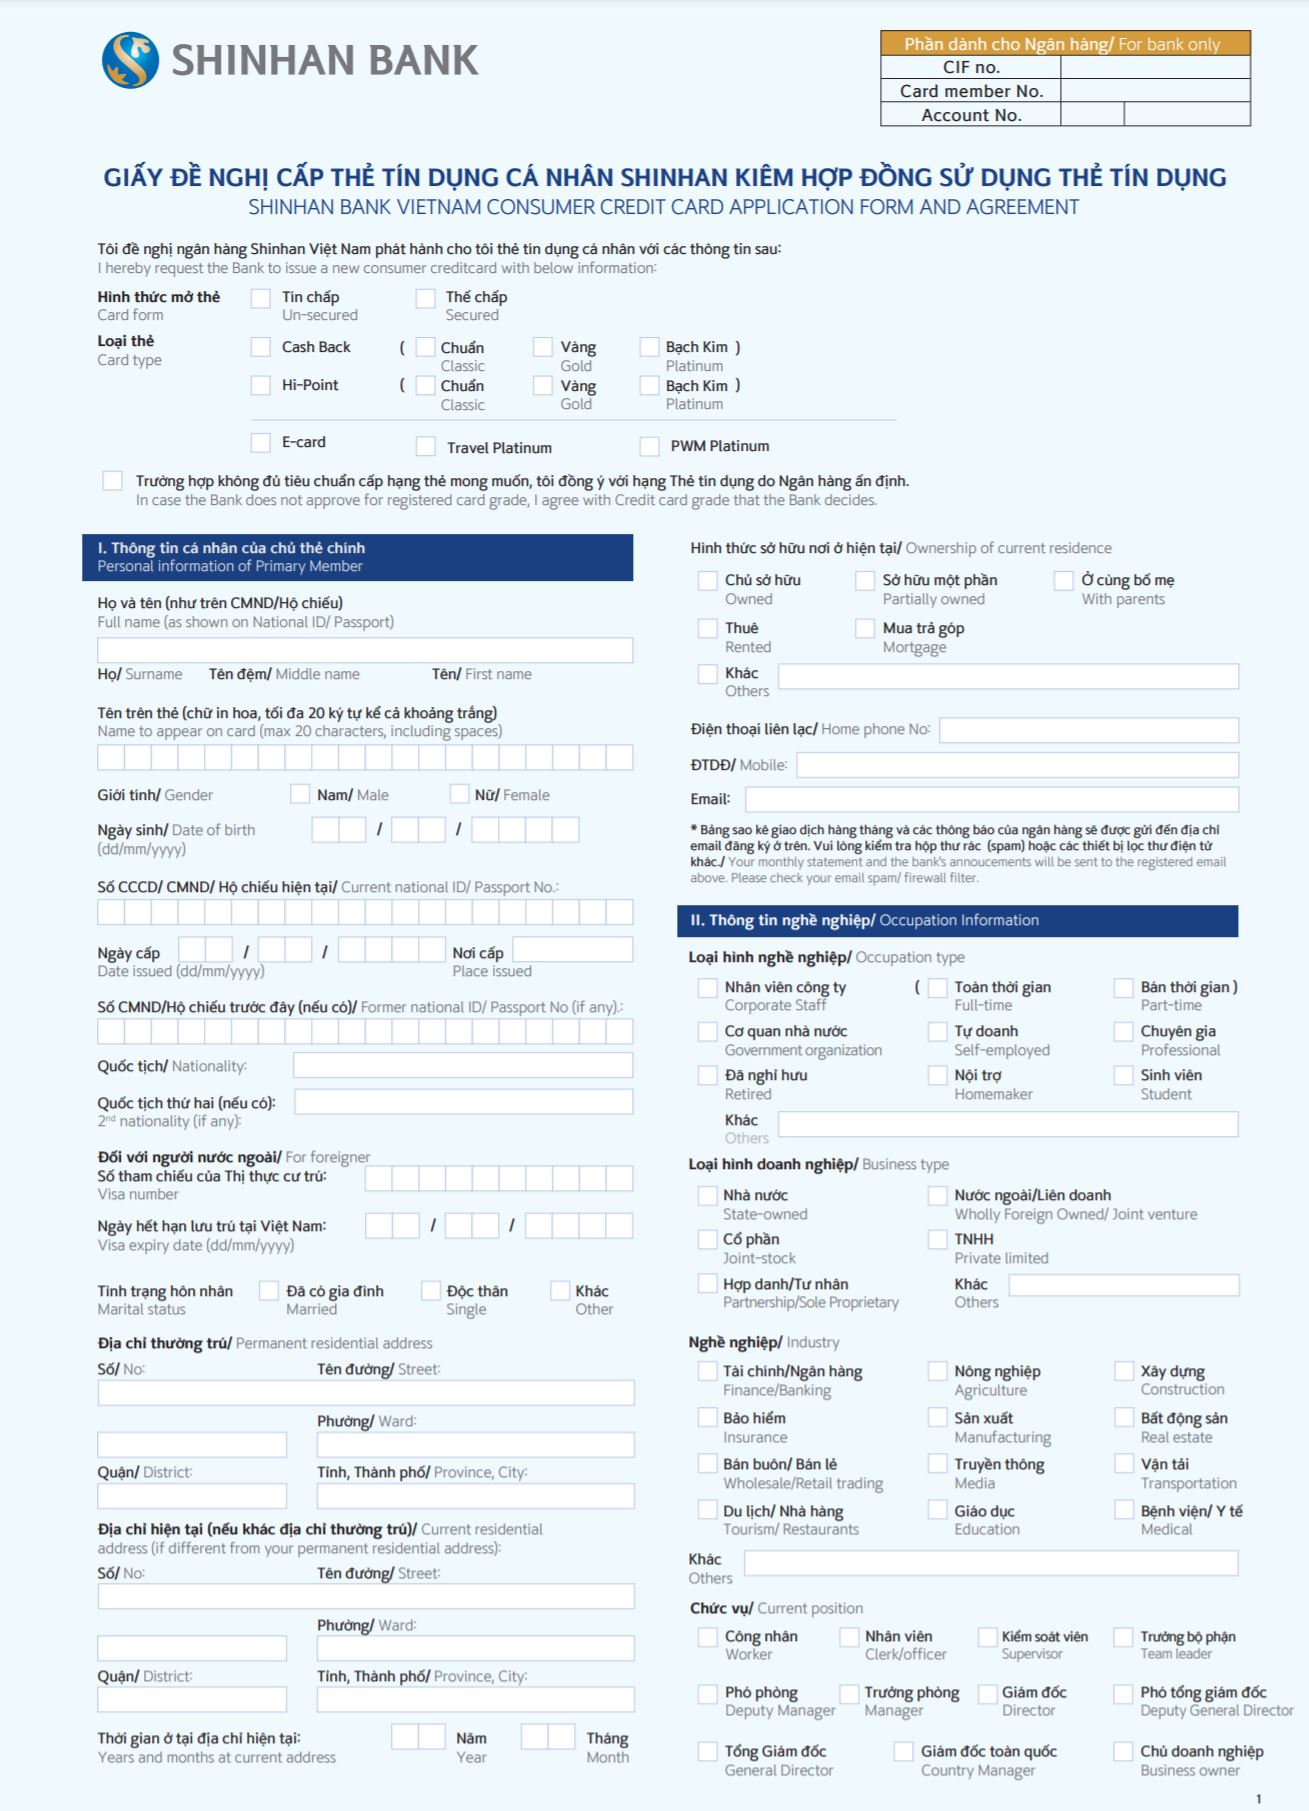box: (1108, 1621, 1137, 1654), (1050, 564, 1080, 595), (922, 1062, 952, 1093), (1109, 1060, 1140, 1090), (285, 779, 315, 808), (696, 973, 726, 1003), (922, 1400, 952, 1430), (247, 330, 276, 361), (835, 1677, 863, 1708), (974, 1680, 1002, 1711), (696, 1677, 723, 1710), (636, 432, 664, 461), (924, 1225, 952, 1254), (693, 1270, 721, 1299), (547, 1275, 575, 1305), (927, 1355, 955, 1385), (695, 1447, 723, 1476), (922, 1448, 950, 1478), (974, 1623, 1002, 1652), (1111, 1017, 1137, 1048), (529, 333, 557, 361), (851, 567, 879, 595), (695, 1225, 723, 1253), (1109, 1357, 1137, 1385), (1111, 1402, 1139, 1430), (924, 1495, 952, 1523), (891, 1736, 920, 1765), (695, 1736, 723, 1765), (1109, 973, 1136, 1003), (695, 1017, 721, 1046), (695, 1402, 721, 1431), (247, 373, 276, 399), (412, 332, 439, 360), (637, 332, 664, 360), (411, 432, 439, 458), (693, 659, 720, 688), (254, 1277, 283, 1303), (1109, 1450, 1137, 1476), (1111, 1493, 1137, 1521), (695, 1495, 721, 1523), (695, 1623, 721, 1651), (1108, 1736, 1136, 1763), (413, 284, 439, 314), (837, 1624, 862, 1654), (247, 429, 274, 456), (695, 614, 721, 641), (446, 780, 472, 807), (695, 1182, 721, 1209), (418, 1277, 444, 1303), (246, 285, 271, 314), (695, 567, 720, 595), (925, 1182, 950, 1211), (530, 373, 555, 399), (100, 467, 125, 494), (924, 1019, 950, 1045), (693, 1062, 718, 1088), (695, 1358, 721, 1384), (1109, 1682, 1136, 1707), (927, 973, 950, 1001), (637, 373, 664, 397), (853, 614, 877, 641), (413, 375, 439, 399)
